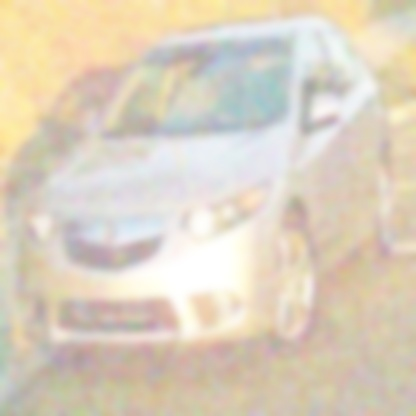Vehicle: (16, 18, 400, 370)
